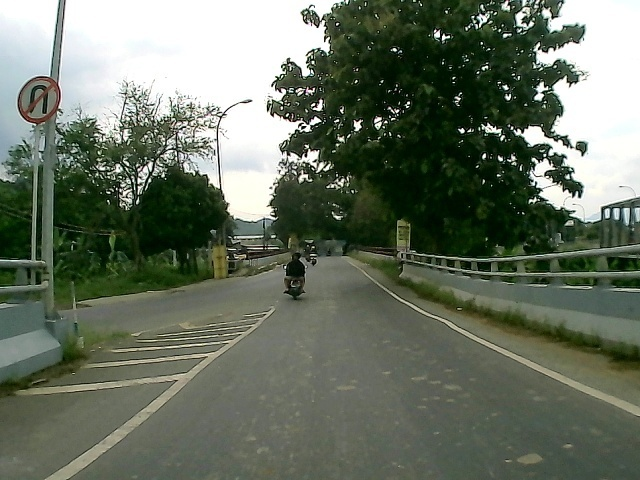Dilarang berbalik arah: (13, 74, 64, 125)
